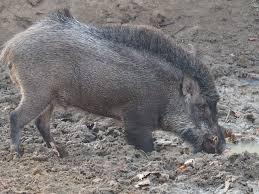wildboar: (0, 7, 228, 159)
